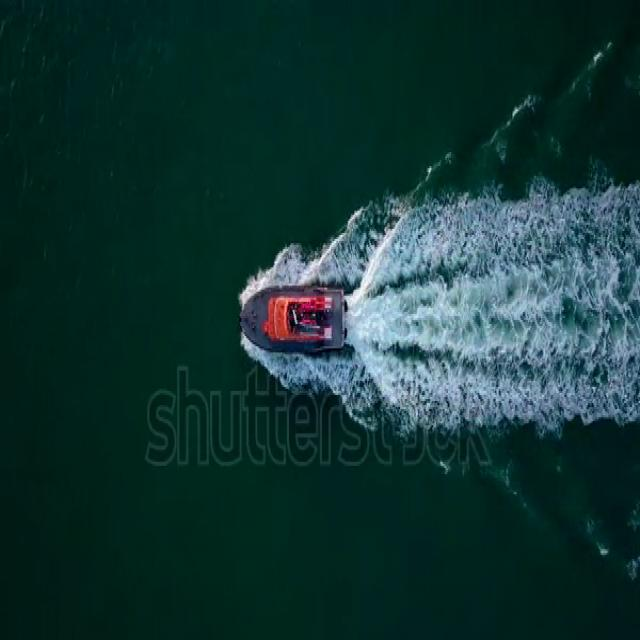ship: (240, 282, 349, 356)
